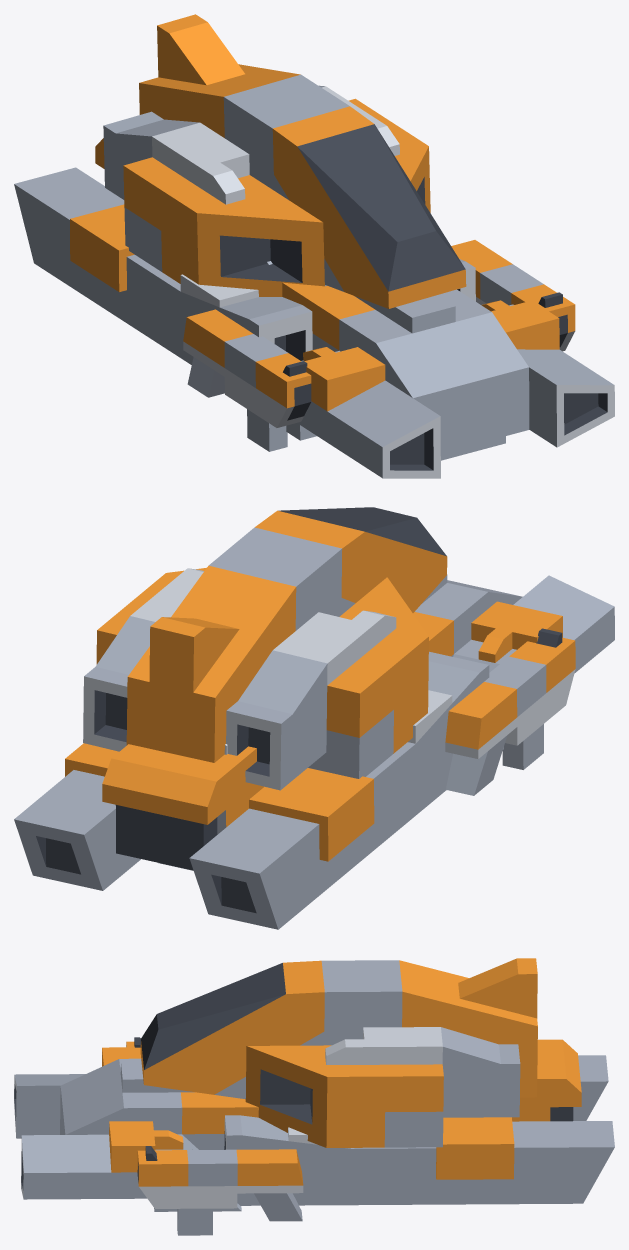
Rendered from craft_cargoB.fbx.
The picture shows the model from 3 angles, top to bottom: view 1: azimuth 30°, elevation 25°; view 2: azimuth 150°, elevation 25°; view 3: azimuth 270°, elevation 25°; orthographic projection. The views are drawn at different scales.
Visible parts, largest first — view 1: node_id90 (×4), node_id43 (×4), node_id9 (×4), node_id59 (×4), node_id69 (×2); view 2: node_id90 (×4), node_id9 (×4), node_id59 (×3), node_id43 (×2); view 3: node_id90 (×4), node_id9 (×3), node_id43 (×2), node_id69 (×3).
Boxes of the visible parts, x1=… form: node_id90 (×4): x1=103, y1=14, x2=466, y2=308; node_id43 (×4): x1=282, y1=282, x2=614, y2=478; node_id9 (×4): x1=14, y1=138, x2=475, y2=364; node_id59 (×4): x1=183, y1=309, x2=311, y2=451; node_id69 (×2): x1=451, y1=240, x2=575, y2=332; node_id90 (×4): x1=83, y1=507, x2=447, y2=790; node_id9 (×4): x1=14, y1=651, x2=489, y2=929; node_id59 (×3): x1=445, y1=637, x2=575, y2=795; node_id43 (×2): x1=413, y1=574, x2=614, y2=749; node_id90 (×4): x1=140, y1=958, x2=537, y2=1147; node_id9 (×3): x1=224, y1=1039, x2=614, y2=1205; node_id43 (×2): x1=14, y1=1047, x2=258, y2=1211; node_id69 (×3): x1=137, y1=1149, x2=303, y2=1235.
Bounding box in the file's own units: 0.6512 × 0.5063 × 1.32.
